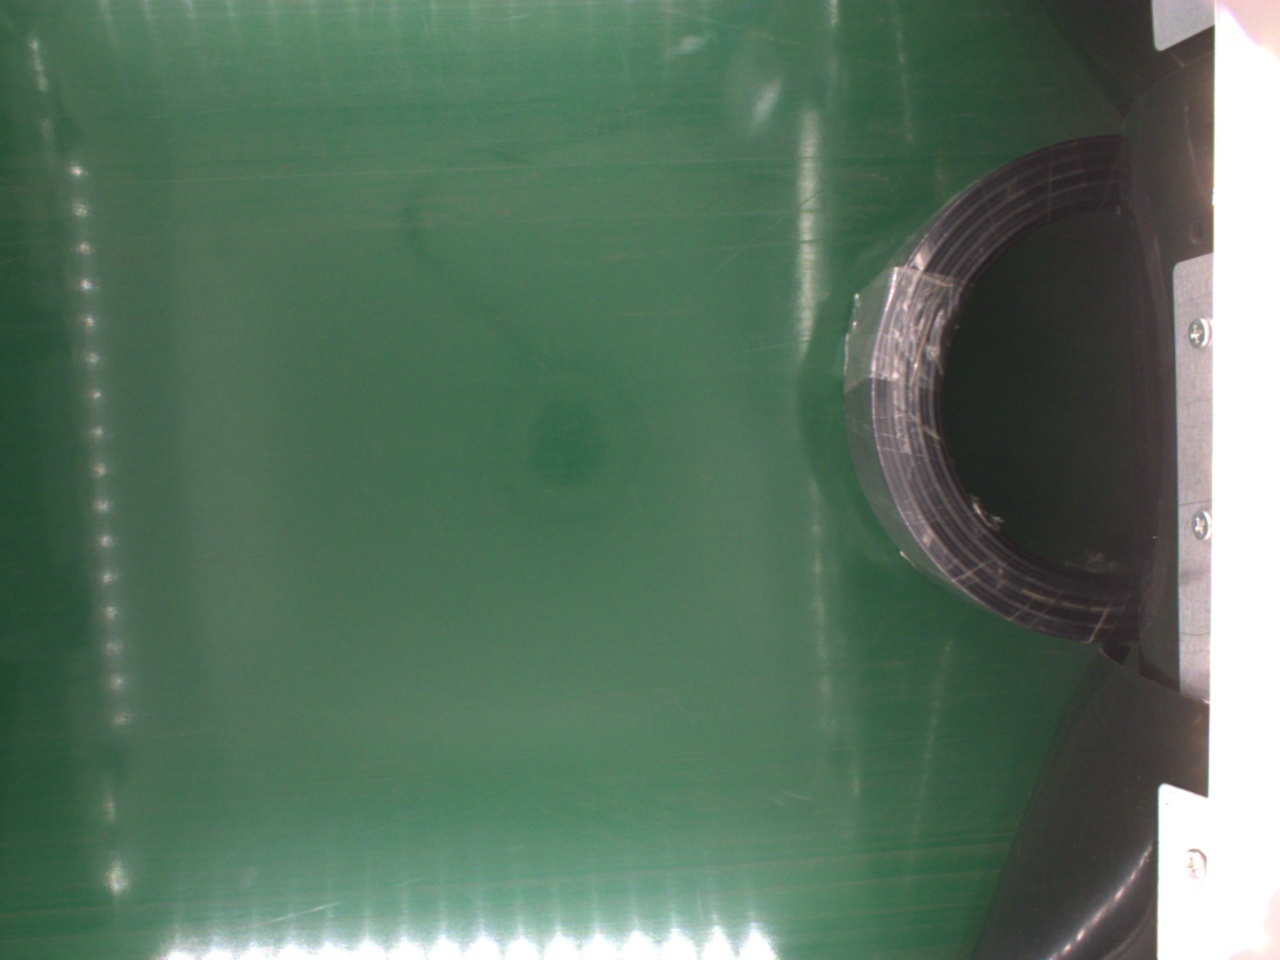black: (855, 133, 1154, 650)
